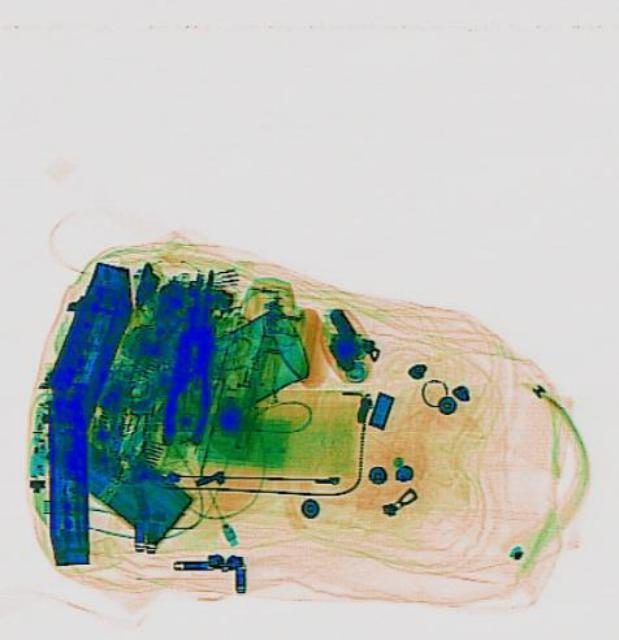Pliers: (155, 265, 225, 445)
